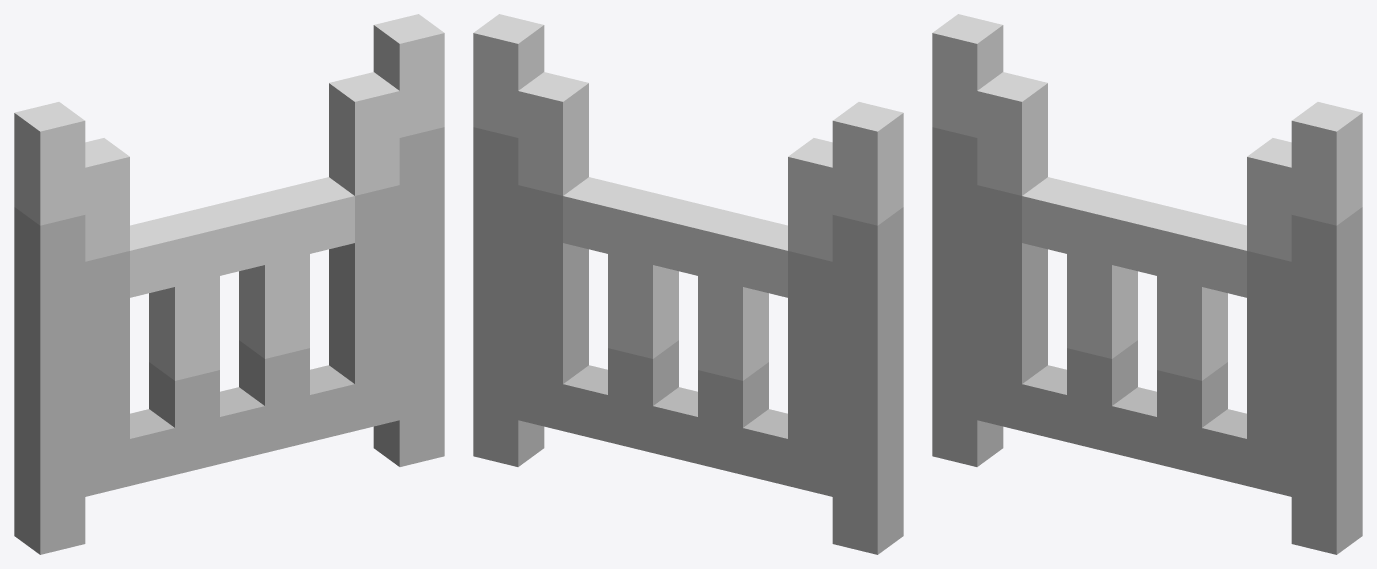
The model's file is ConstructionMaterials-97.obj.
3 views of the same model, side by side, from view 1: azimuth 30°, elevation 25°; view 2: azimuth 150°, elevation 25°; view 3: azimuth 330°, elevation 25° (orthographic).
Bounding box in the file's own units: 0.9 × 0.9 × 0.1.
Materials: 1 (1 with a texture image).
